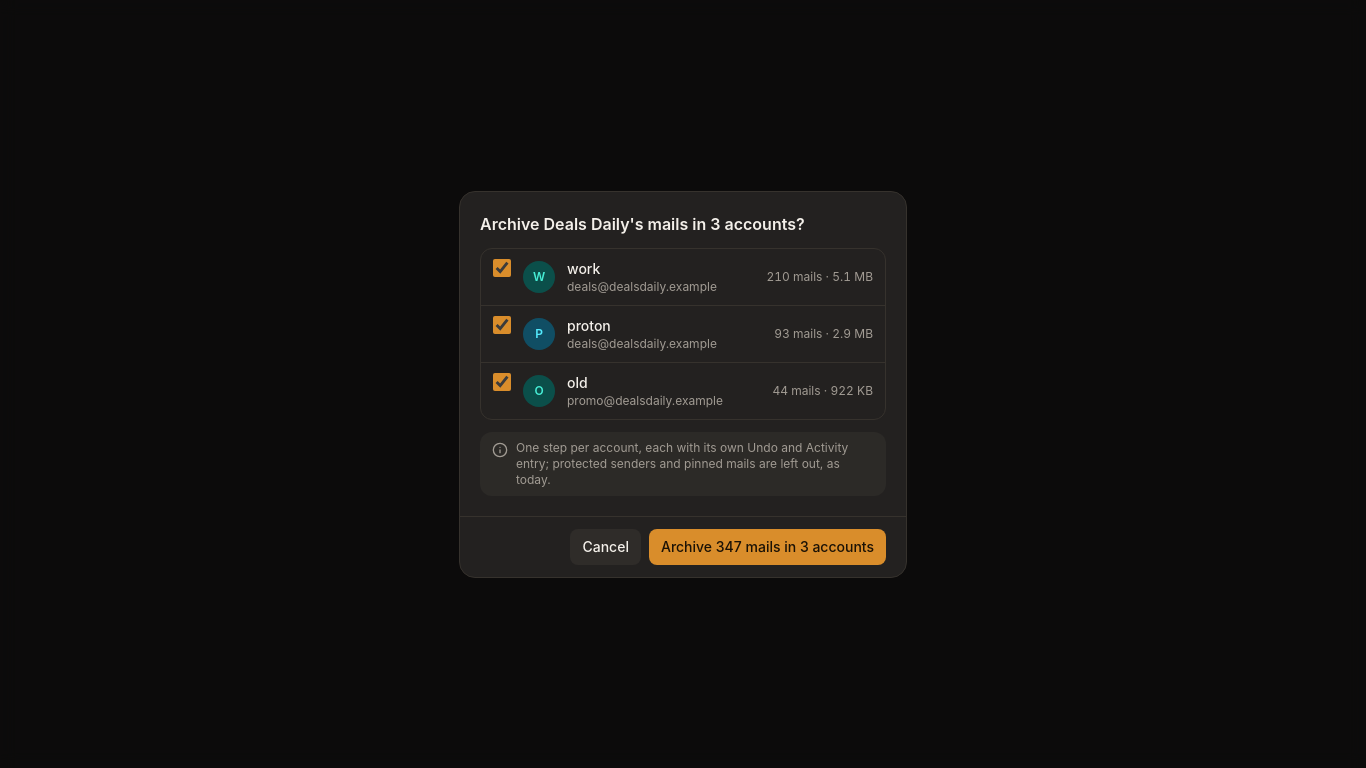
it: an account whose move never queued is let go of again
Click the button "Archive 347 mails in 3 accounts" at (768, 546), box [649,528,886,564]
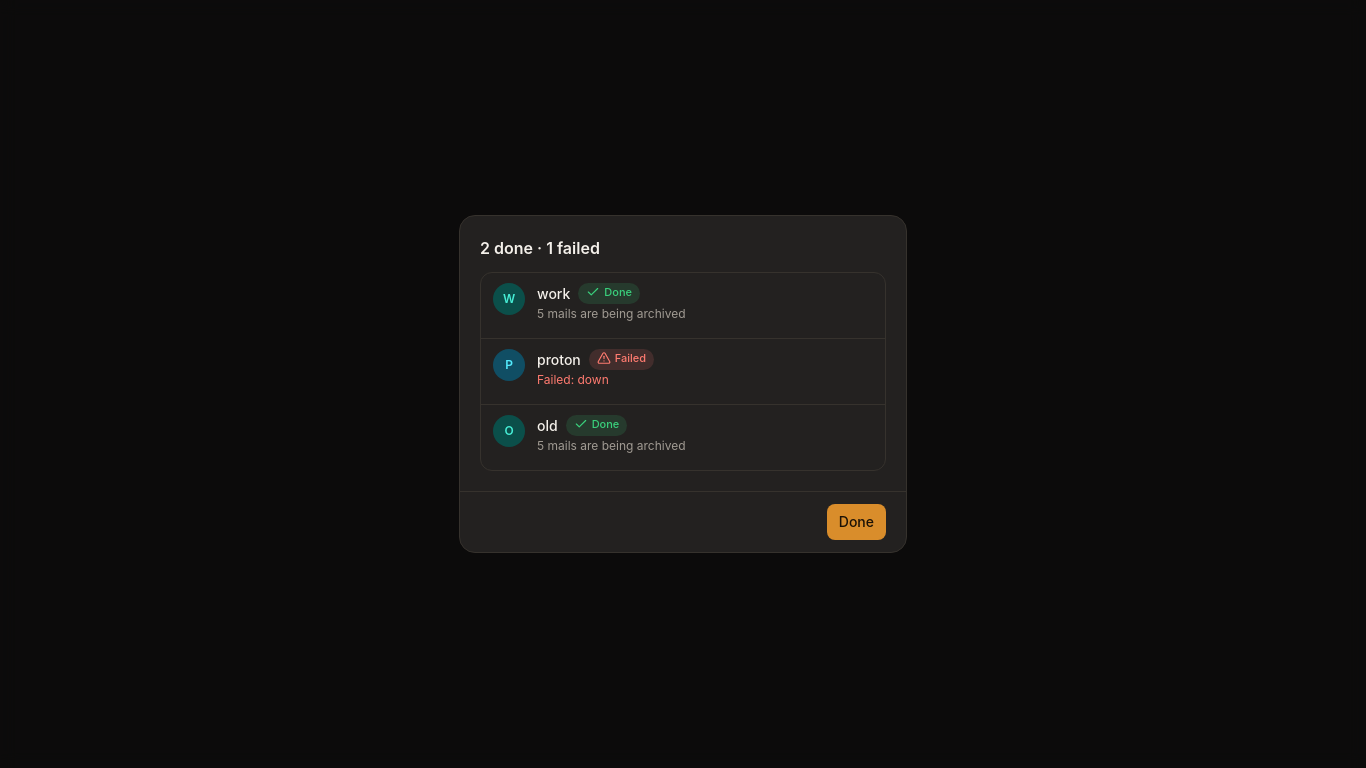
Expected: the heading "2 done · 1 failed" is shown, [480,238,600,258]
